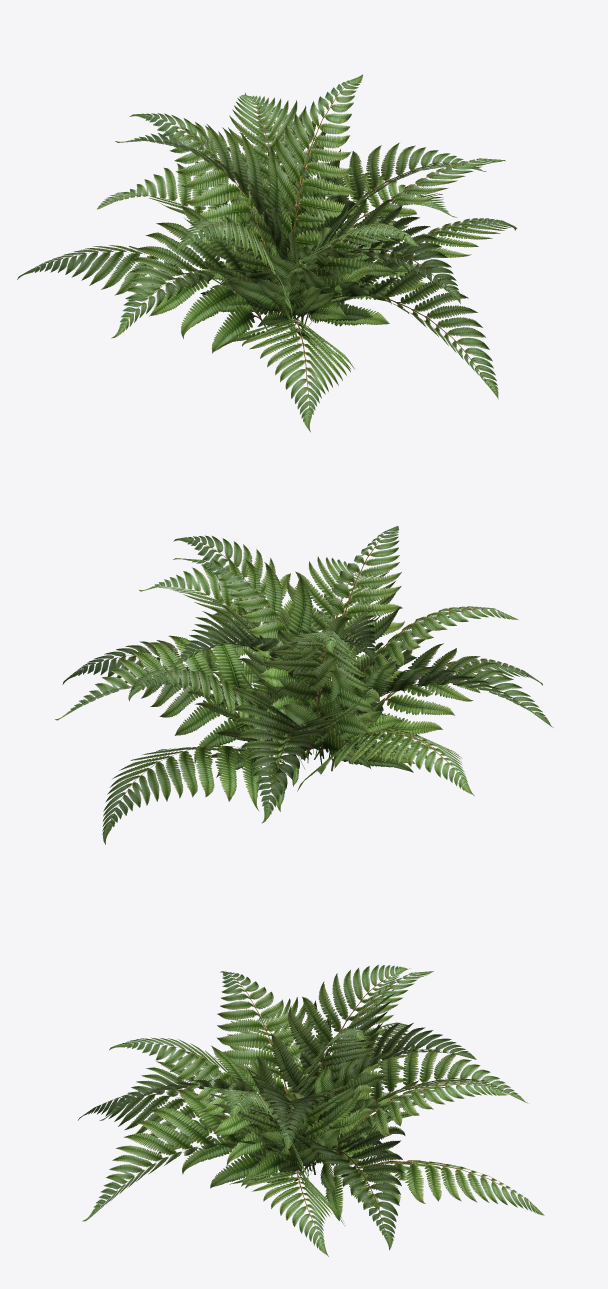
File: fern.glb
3 views of the same model, one above another, from view 1: azimuth 30°, elevation 25°; view 2: azimuth 150°, elevation 25°; view 3: azimuth 270°, elevation 25° (orthographic). The views are drawn at different scales.
Visible parts, largest first — view 1: SM_MZRa_Fern_B052; view 2: SM_MZRa_Fern_B052; view 3: SM_MZRa_Fern_B052.
Part boxes in pixels (x1,y1,x2,y2): SM_MZRa_Fern_B052: (17, 74, 517, 432); SM_MZRa_Fern_B052: (55, 526, 553, 844); SM_MZRa_Fern_B052: (78, 964, 544, 1256).
Size of the model in its own units: 2.77 by 1.43 by 2.78.
Materials: 1 (1 with a texture image).
